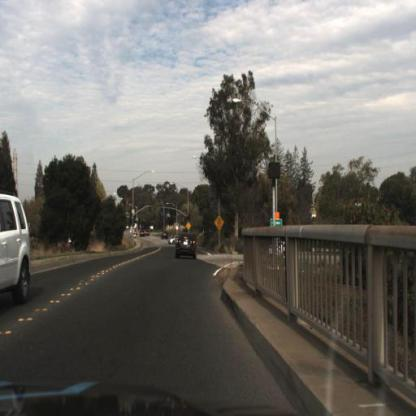car: (1, 191, 33, 315), (174, 230, 200, 263)
